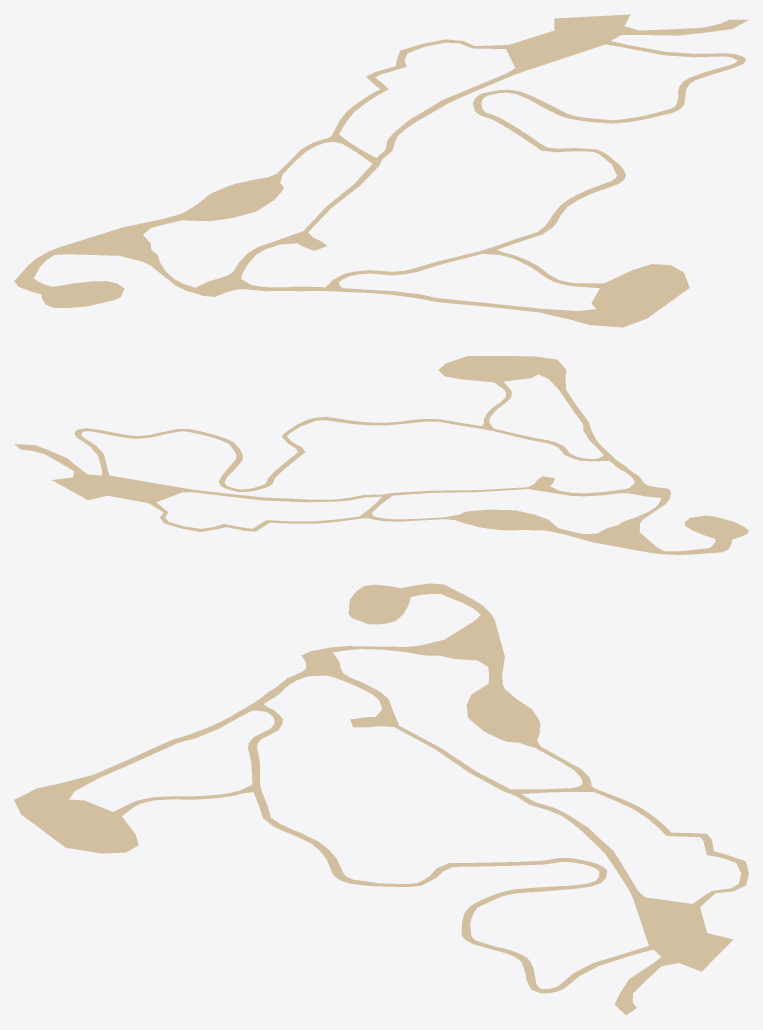
The model's file is path.gltf.
The picture shows the model from 3 angles, top to bottom: view 1: azimuth 30°, elevation 25°; view 2: azimuth 150°, elevation 25°; view 3: azimuth 270°, elevation 25°; orthographic projection. The views are drawn at different scales.
Visible parts, largest first — view 1: Plane.001; view 2: Plane.001; view 3: Plane.001.
Part boxes in pixels (x1,y1,x2,y2): Plane.001: [14, 14, 747, 327]; Plane.001: [14, 356, 748, 554]; Plane.001: [14, 583, 748, 1014].
Size of the model in its own units: 441 by 0.0108 by 317.
